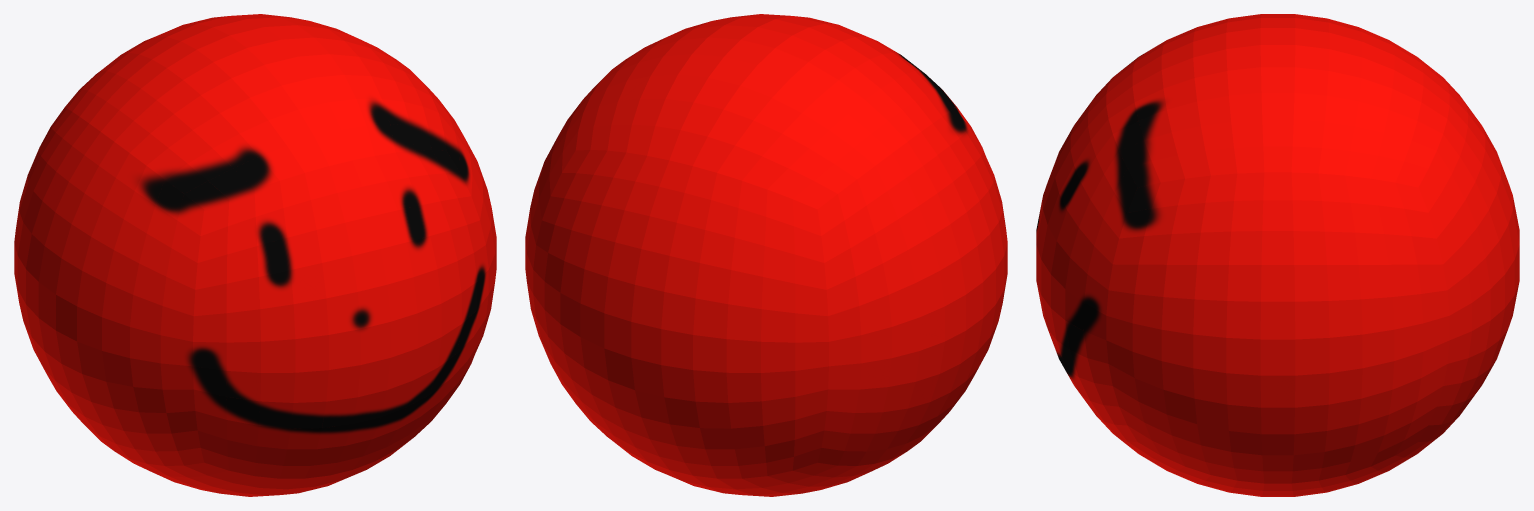
File: Globe.fbx
3 renders of one model, left to right at view 1: azimuth 30°, elevation 25°; view 2: azimuth 150°, elevation 25°; view 3: azimuth 270°, elevation 25°, orthographic.
Parts seen in each view (by area): view 1: Globe; view 2: Globe; view 3: Globe.
Boxes of the visible parts, bbox=[...] form: Globe: bbox=[14, 14, 496, 496]; Globe: bbox=[525, 14, 1007, 496]; Globe: bbox=[1036, 14, 1519, 496].
Bounding box in the file's own units: 344 × 344 × 344.
1 material, 1 textured.
